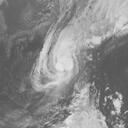cyclone: (29, 31, 85, 93)
